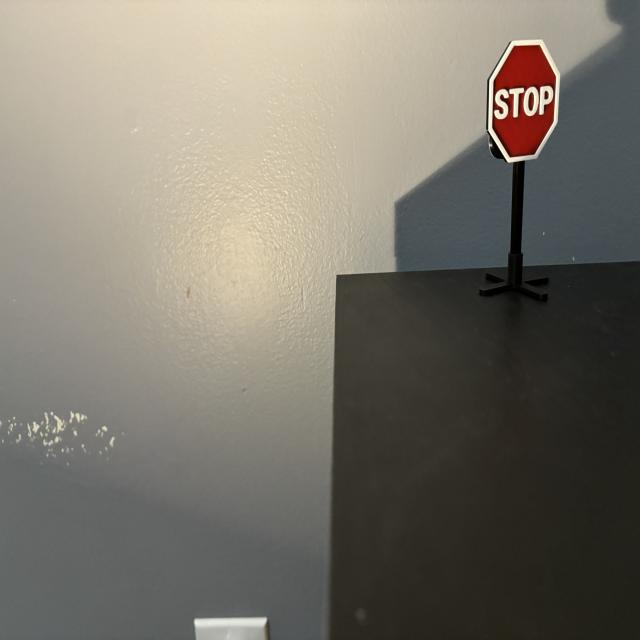sign_stop: (490, 41, 561, 164)
